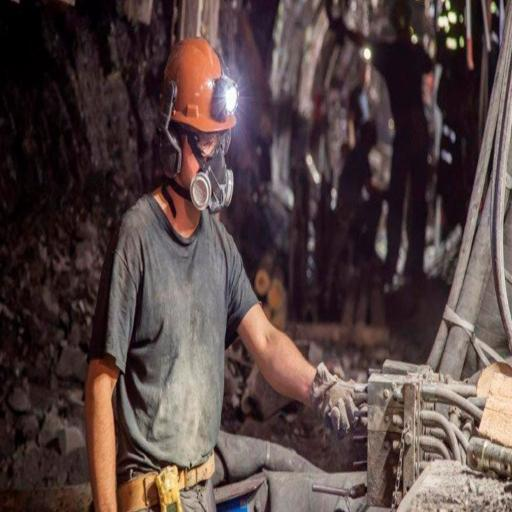mask: (193, 152, 249, 225)
